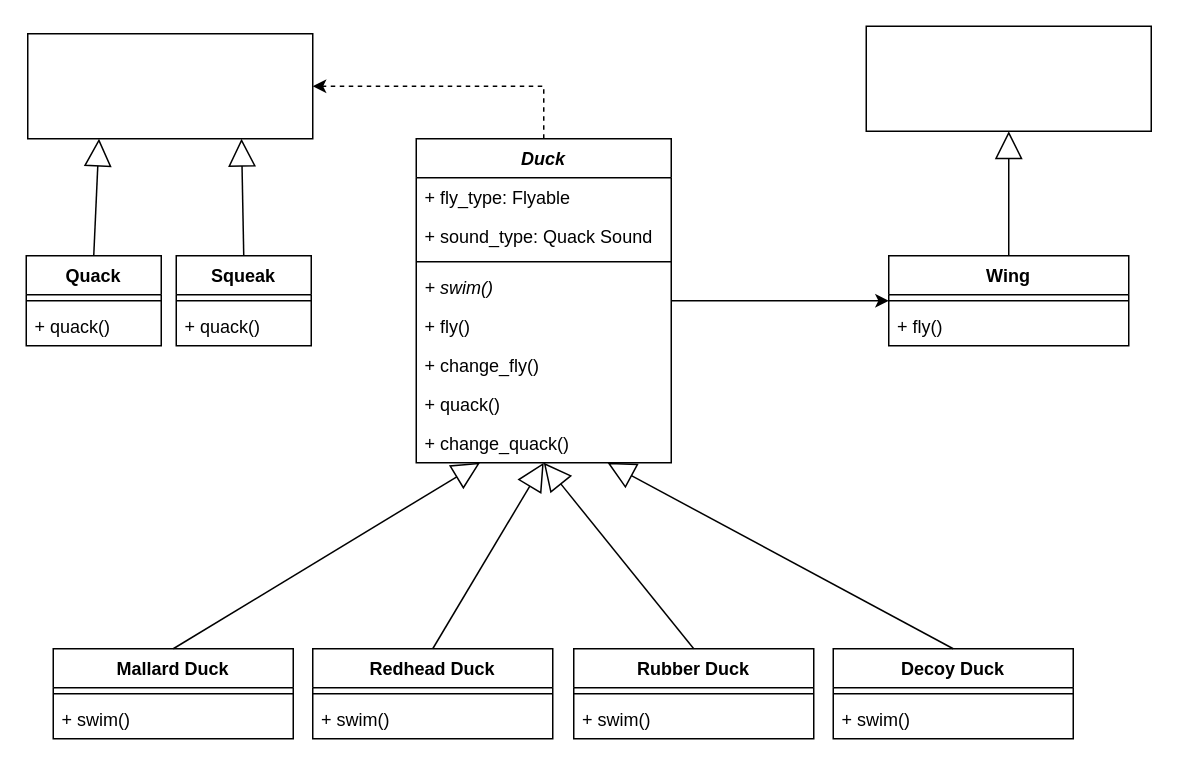
This 1178x770 diagram has some shape labels left out. The centre of each missing label's shape, as x and y in pixels:
"<<Interface>> Flyable + fly()" goes at pixel 1008 78.
"<<Interface>> Quack Sound + quack()" goes at pixel 169 85.
